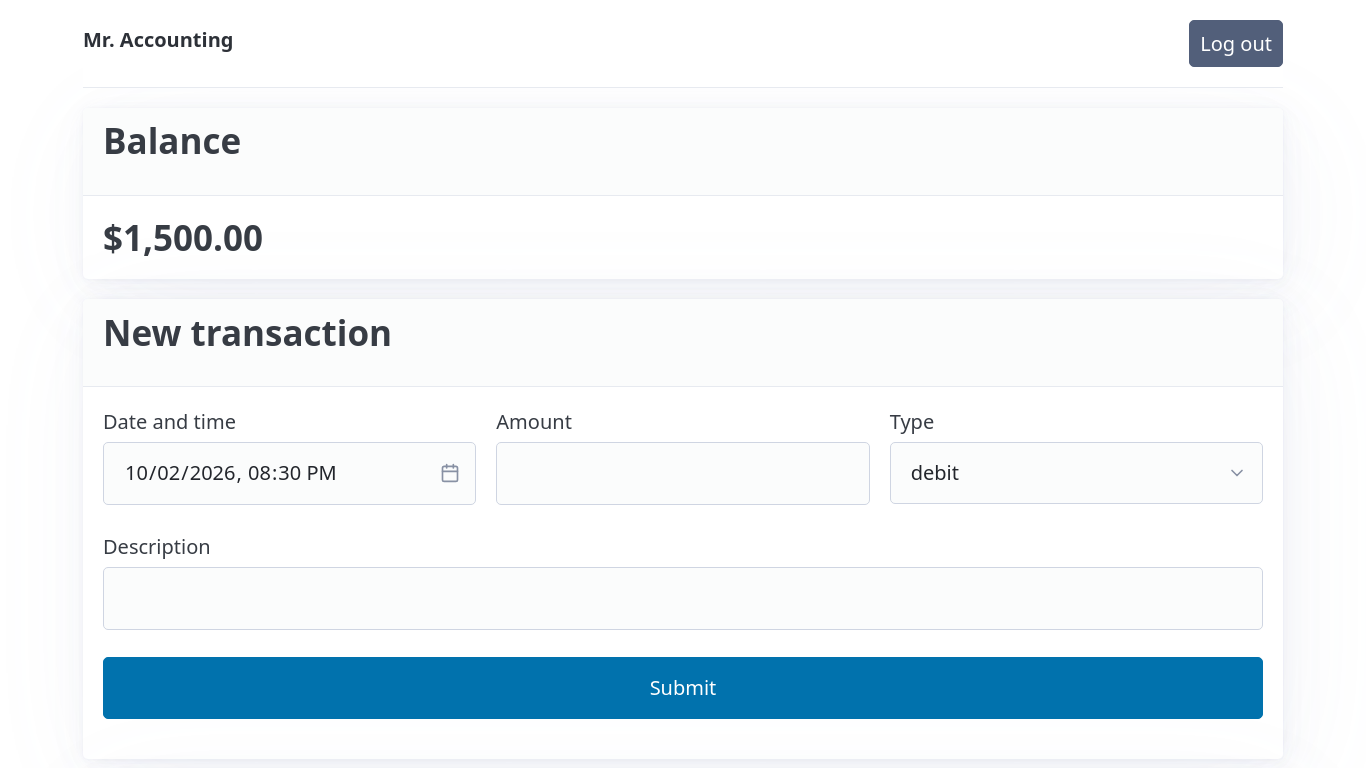
Test: App › logs out and returns to the login form
Step 1. Click the button "Log out" → (1236, 44), box [1189,20,1283,67]
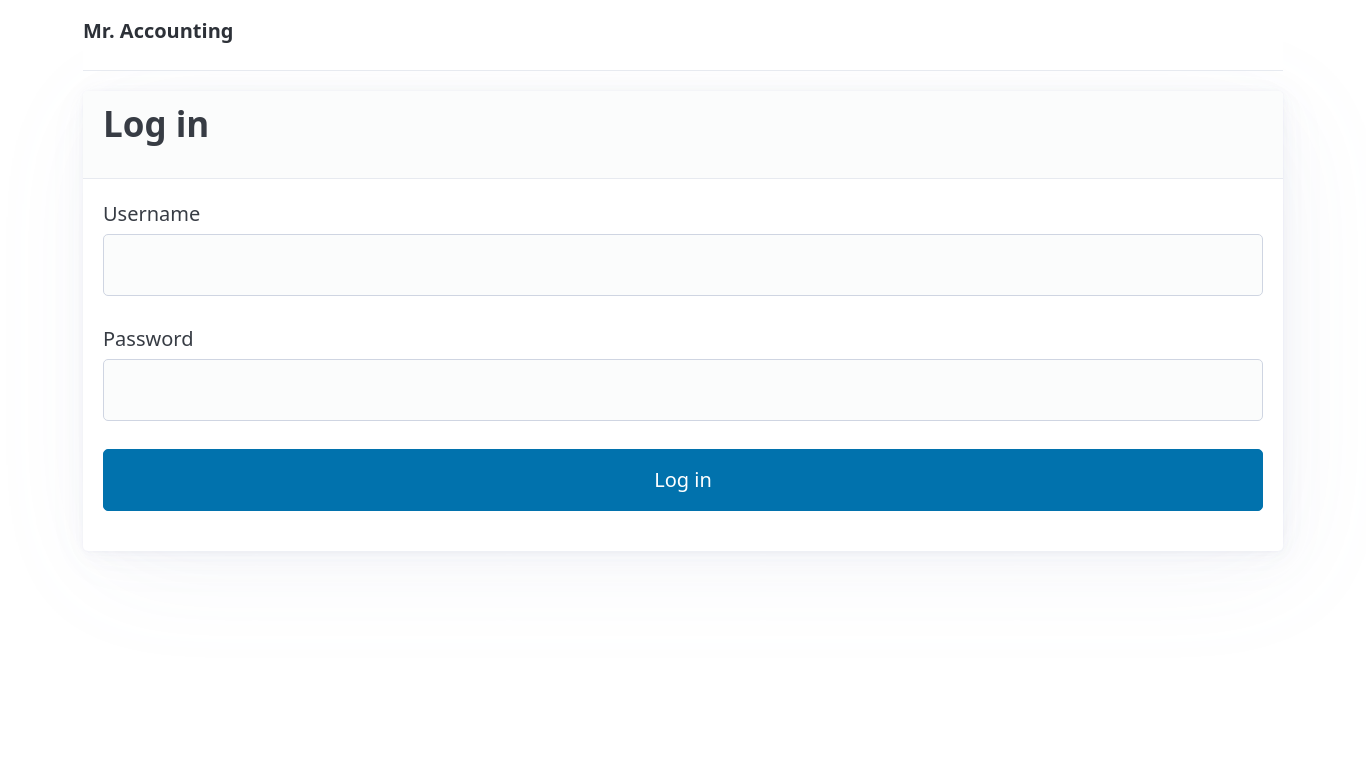
Check: the heading "Log in" is shown, box [103,100,209,147]
